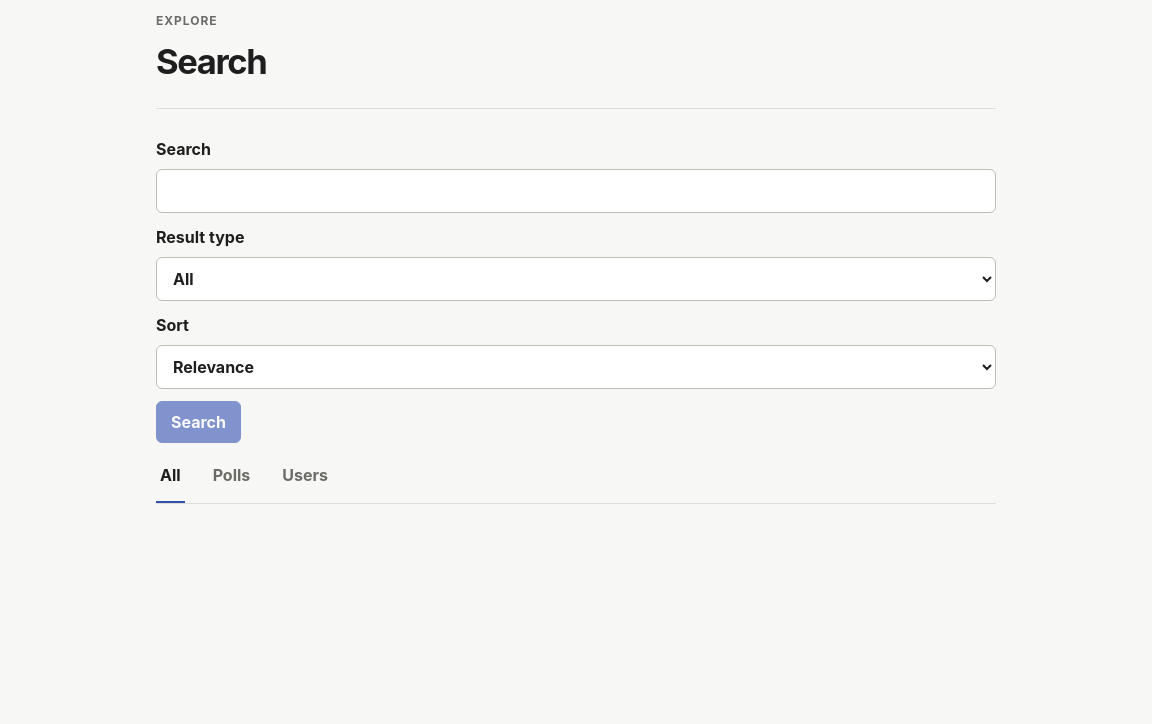
ignores an old search response when type changes and permits a new search
The image size is (1152, 724).
Type "climate" into the field labelled "Search".
click(576, 191); type("climate")  # box [156, 169, 996, 213]
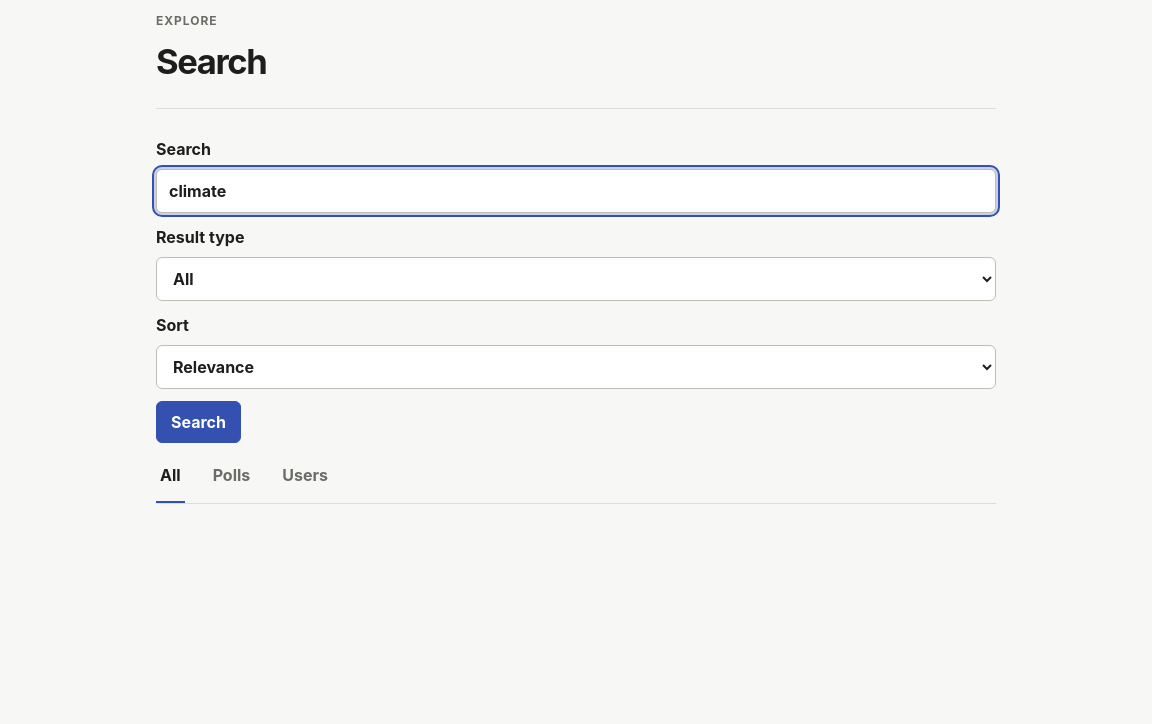
Click the button "Search".
click(198, 422)  # box [156, 401, 241, 443]
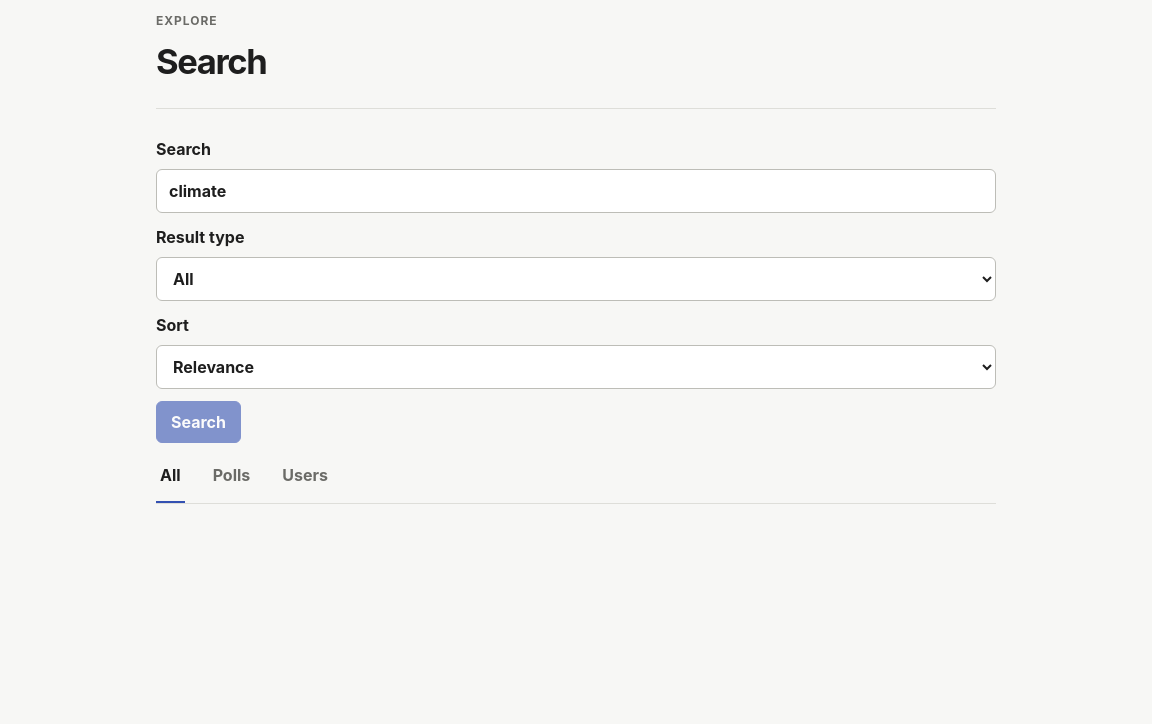
Click the tab "Polls".
click(231, 481)  # box [209, 459, 254, 503]
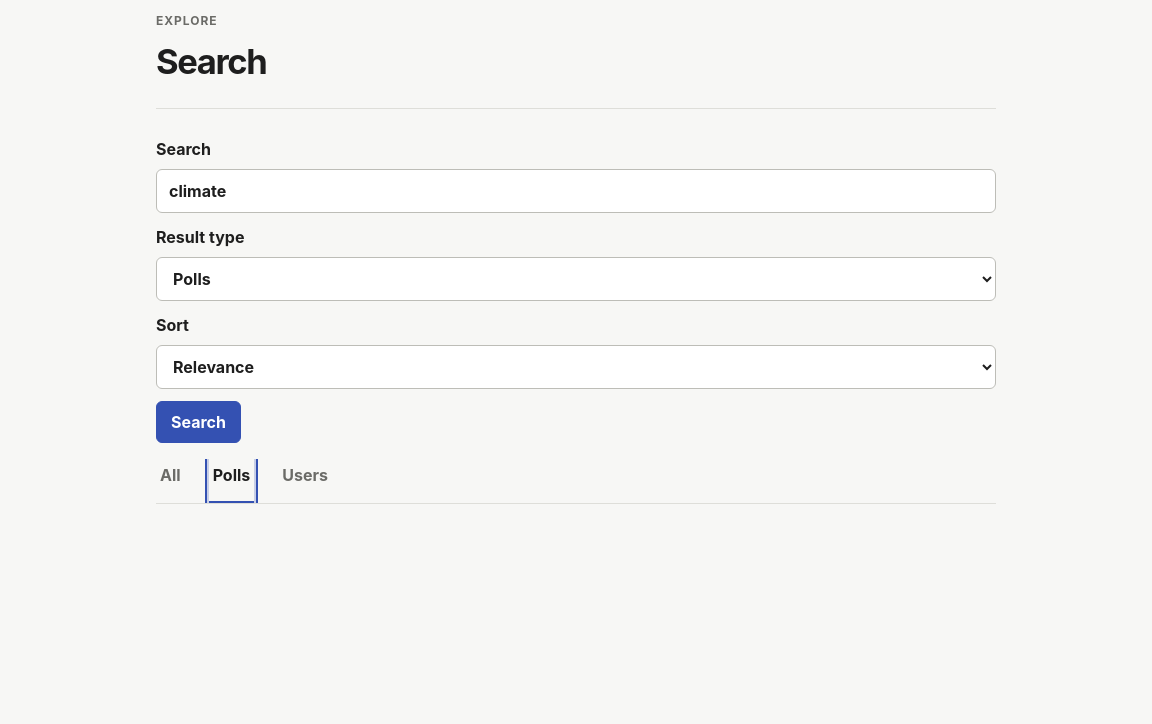
expect the button "Search" is enabled: met
Click the button "Search".
click(198, 422)  # box [156, 401, 241, 443]
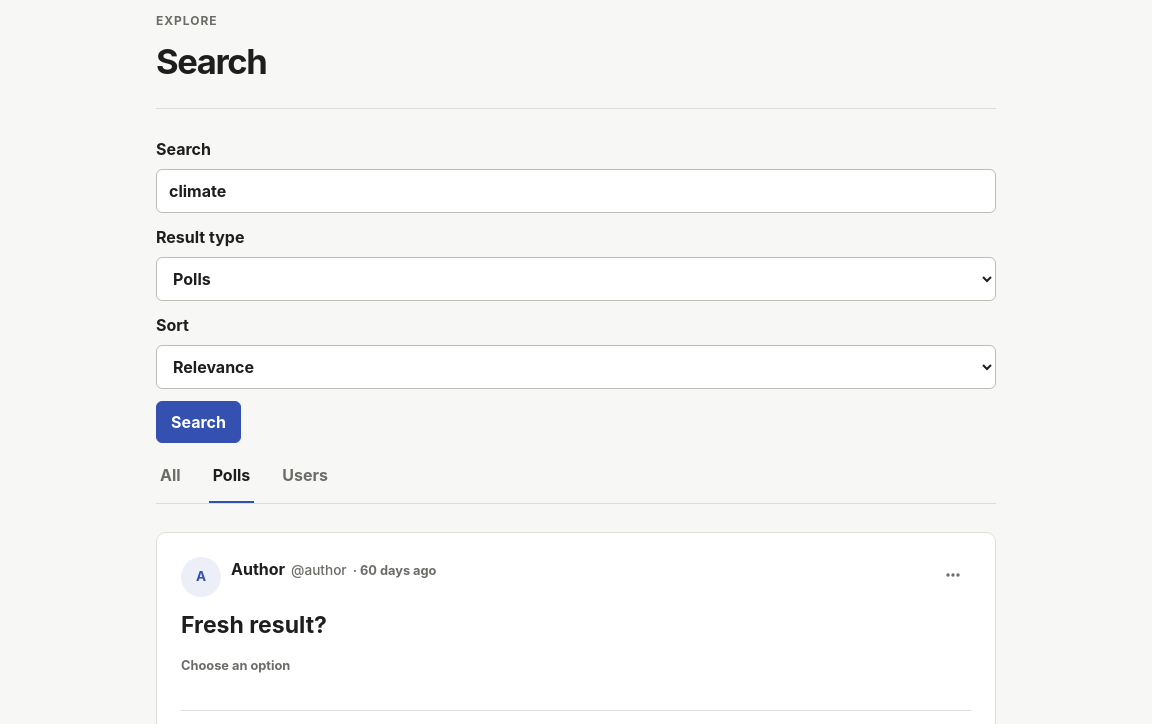
expect the link "Fresh result?" is shown: met, box [181, 611, 327, 639]
